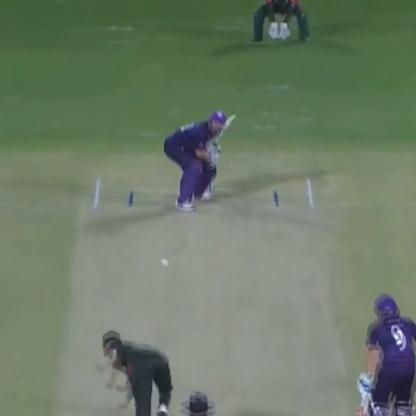ball: (156, 252, 170, 268)
bat: (206, 108, 240, 150)
pitch: (57, 174, 355, 416)
